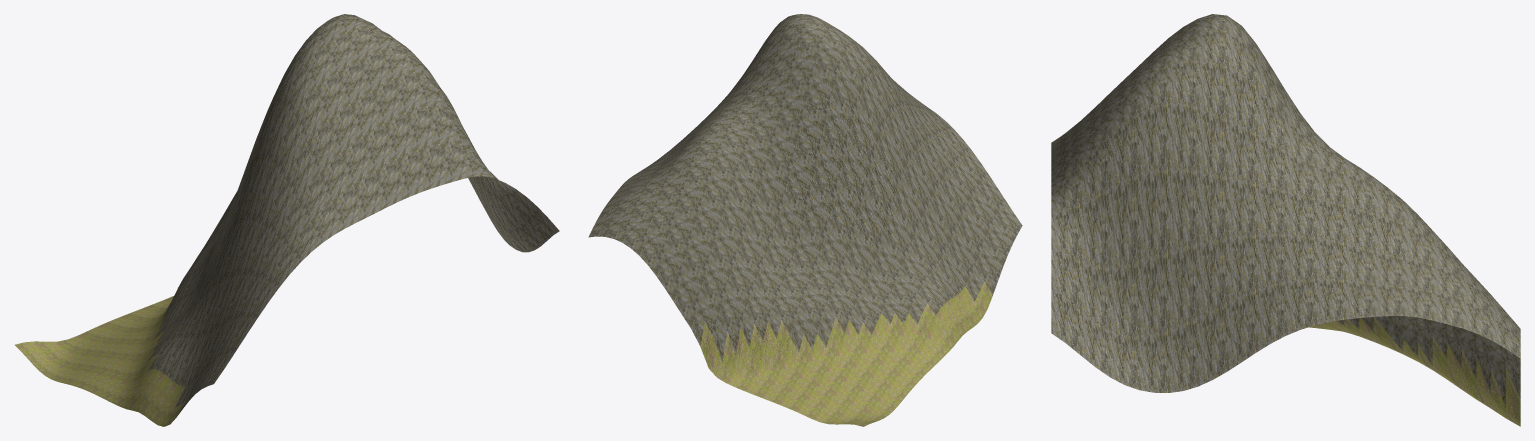
The model's file is chunk_0_1.glb.
The picture shows the model from 3 angles, left to right: view 1: azimuth 30°, elevation 25°; view 2: azimuth 150°, elevation 25°; view 3: azimuth 270°, elevation 25°; orthographic projection. The views are drawn at different scales.
Parts seen in each view (by area): view 1: chunk_0_1-col; view 2: chunk_0_1-col; view 3: chunk_0_1-col.
Part boxes in pixels (<box>): chunk_0_1-col: <box>14,14,559,426</box>; chunk_0_1-col: <box>588,14,1022,426</box>; chunk_0_1-col: <box>1051,14,1520,426</box>.
Bounding box in the file's own units: 64 × 67.35 × 64.
2 materials, 2 textured.
